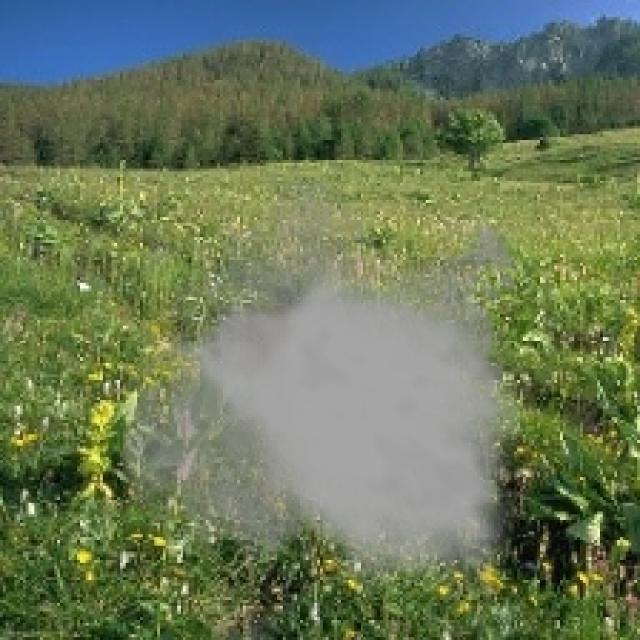Smoke: (114, 175, 532, 600)
